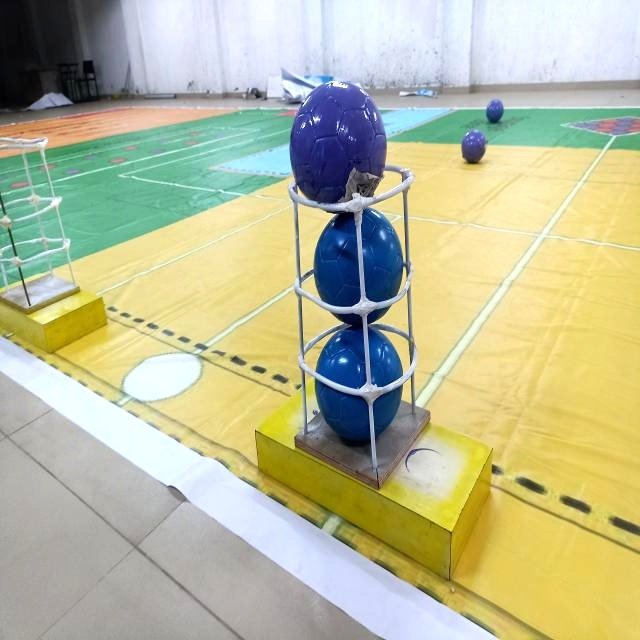blue_ball: (302, 202, 408, 330), (312, 322, 413, 443)
purple_ball: (286, 70, 395, 198), (463, 122, 490, 165), (486, 98, 508, 124)
silo: (284, 141, 424, 478)
